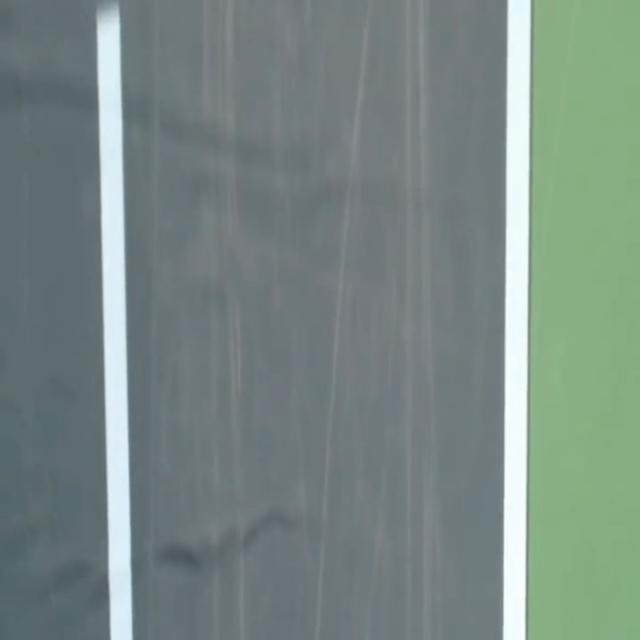center: (96, 3, 132, 639)
right: (503, 0, 531, 639)
